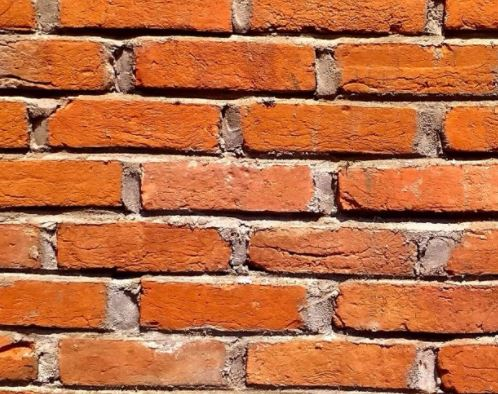brick: (137, 158, 320, 220), (54, 220, 236, 275), (54, 334, 231, 390), (332, 40, 497, 99), (134, 280, 314, 334), (239, 103, 420, 156), (131, 39, 319, 89), (249, 227, 423, 280), (332, 162, 498, 217), (244, 338, 419, 389), (334, 281, 498, 335), (52, 104, 227, 147), (1, 159, 128, 208), (3, 38, 112, 89), (54, 1, 236, 31), (1, 282, 117, 328), (250, 1, 427, 31), (434, 343, 498, 388), (443, 108, 498, 153), (1, 222, 47, 268), (444, 1, 498, 32), (1, 100, 29, 150), (1, 1, 38, 30)
